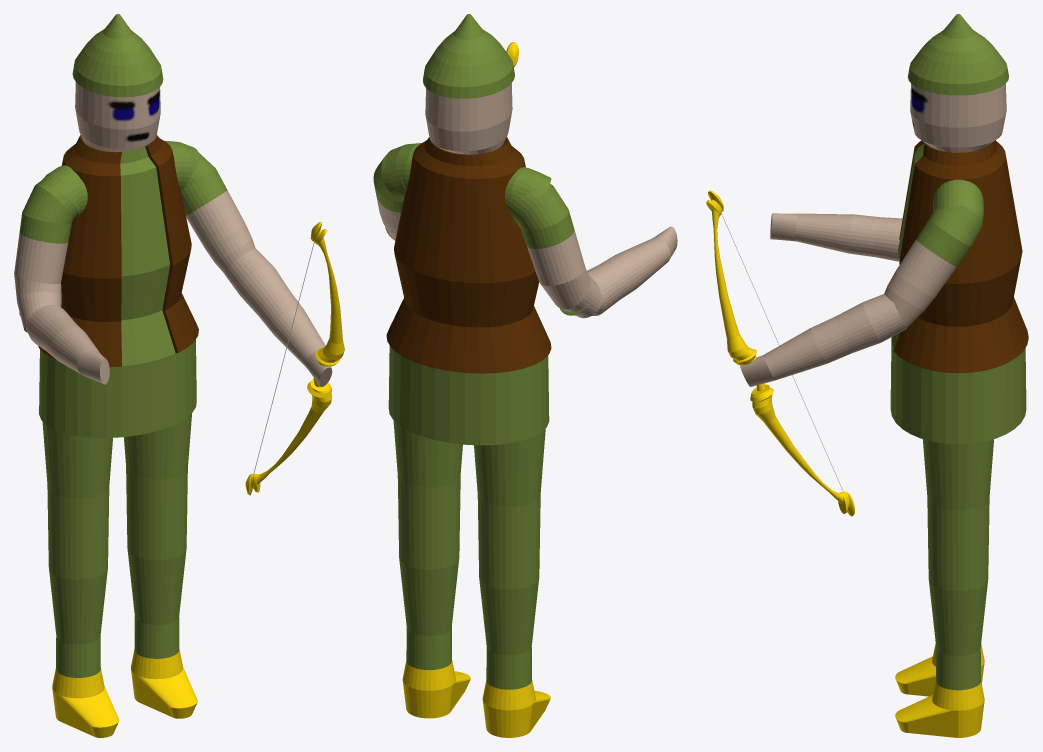
Rendered from Лучник2.fbx.
The picture shows the model from 3 angles, left to right: view 1: azimuth 30°, elevation 25°; view 2: azimuth 150°, elevation 25°; view 3: azimuth 270°, elevation 25°; orthographic projection.
Visible parts, largest first — view 1: Цилиндр.151, Цилиндр.161, Цилиндр.157, Цилиндр.159, Цилиндр.156, Цилиндр.158, Цилиндр.153, Цилиндр.154, Цилиндр.160, Цилиндр.155, Цилиндр.152, Цилиндр.163 (+2 smaller); view 2: Цилиндр.161, Цилиндр.151, Цилиндр.157, Цилиндр.158, Цилиндр.159, Цилиндр.156, Цилиндр.153, Цилиндр.160, Цилиндр.152, Цилиндр.155, Цилиндр.149, Цилиндр.150; view 3: Цилиндр.161, Цилиндр.151, Цилиндр.158, Цилиндр.159, Цилиндр.154, Цилиндр.155, Цилиндр.160, Цилиндр.152, Цилиндр.163, Цилиндр.156, Цилиндр.149.
Boxes of the visible parts, box(x1,y1,x2,y2) form: Цилиндр.151: box(39, 82, 196, 437); Цилиндр.161: box(38, 135, 198, 367); Цилиндр.157: box(42, 421, 112, 579); Цилиндр.159: box(127, 549, 197, 718); Цилиндр.156: box(49, 568, 119, 737); Цилиндр.158: box(124, 413, 191, 560); Цилиндр.153: box(14, 180, 78, 332); Цилиндр.154: box(224, 248, 332, 386); Цилиндр.160: box(72, 14, 163, 97); Цилиндр.155: box(181, 147, 255, 273); Цилиндр.152: box(19, 304, 109, 384); Цилиндр.163: box(245, 222, 344, 495); Цилиндр.161: box(386, 137, 551, 373); Цилиндр.151: box(388, 83, 549, 445); Цилиндр.157: box(474, 429, 545, 589); Цилиндр.158: box(393, 420, 462, 569); Цилиндр.159: box(399, 559, 470, 718); Цилиндр.156: box(479, 579, 550, 737); Цилиндр.153: box(504, 183, 603, 318); Цилиндр.160: box(423, 14, 514, 98); Цилиндр.152: box(559, 226, 677, 315); Цилиндр.155: box(373, 151, 406, 240); Цилиндр.149: box(385, 143, 421, 195); Цилиндр.150: box(505, 167, 551, 199); Цилиндр.161: box(893, 140, 1028, 373); Цилиндр.151: box(890, 83, 1026, 444); Цилиндр.158: box(922, 439, 993, 591); Цилиндр.159: box(895, 581, 987, 737); Цилиндр.154: box(740, 294, 906, 386); Цилиндр.155: box(884, 205, 983, 330); Цилиндр.160: box(908, 14, 1008, 95); Цилиндр.152: box(770, 213, 902, 261); Цилиндр.163: box(706, 190, 854, 516); Цилиндр.156: box(895, 644, 984, 696); Цилиндр.149: box(933, 179, 983, 221).
Size of the model in its own units: 41.96 by 117 by 49.17.
